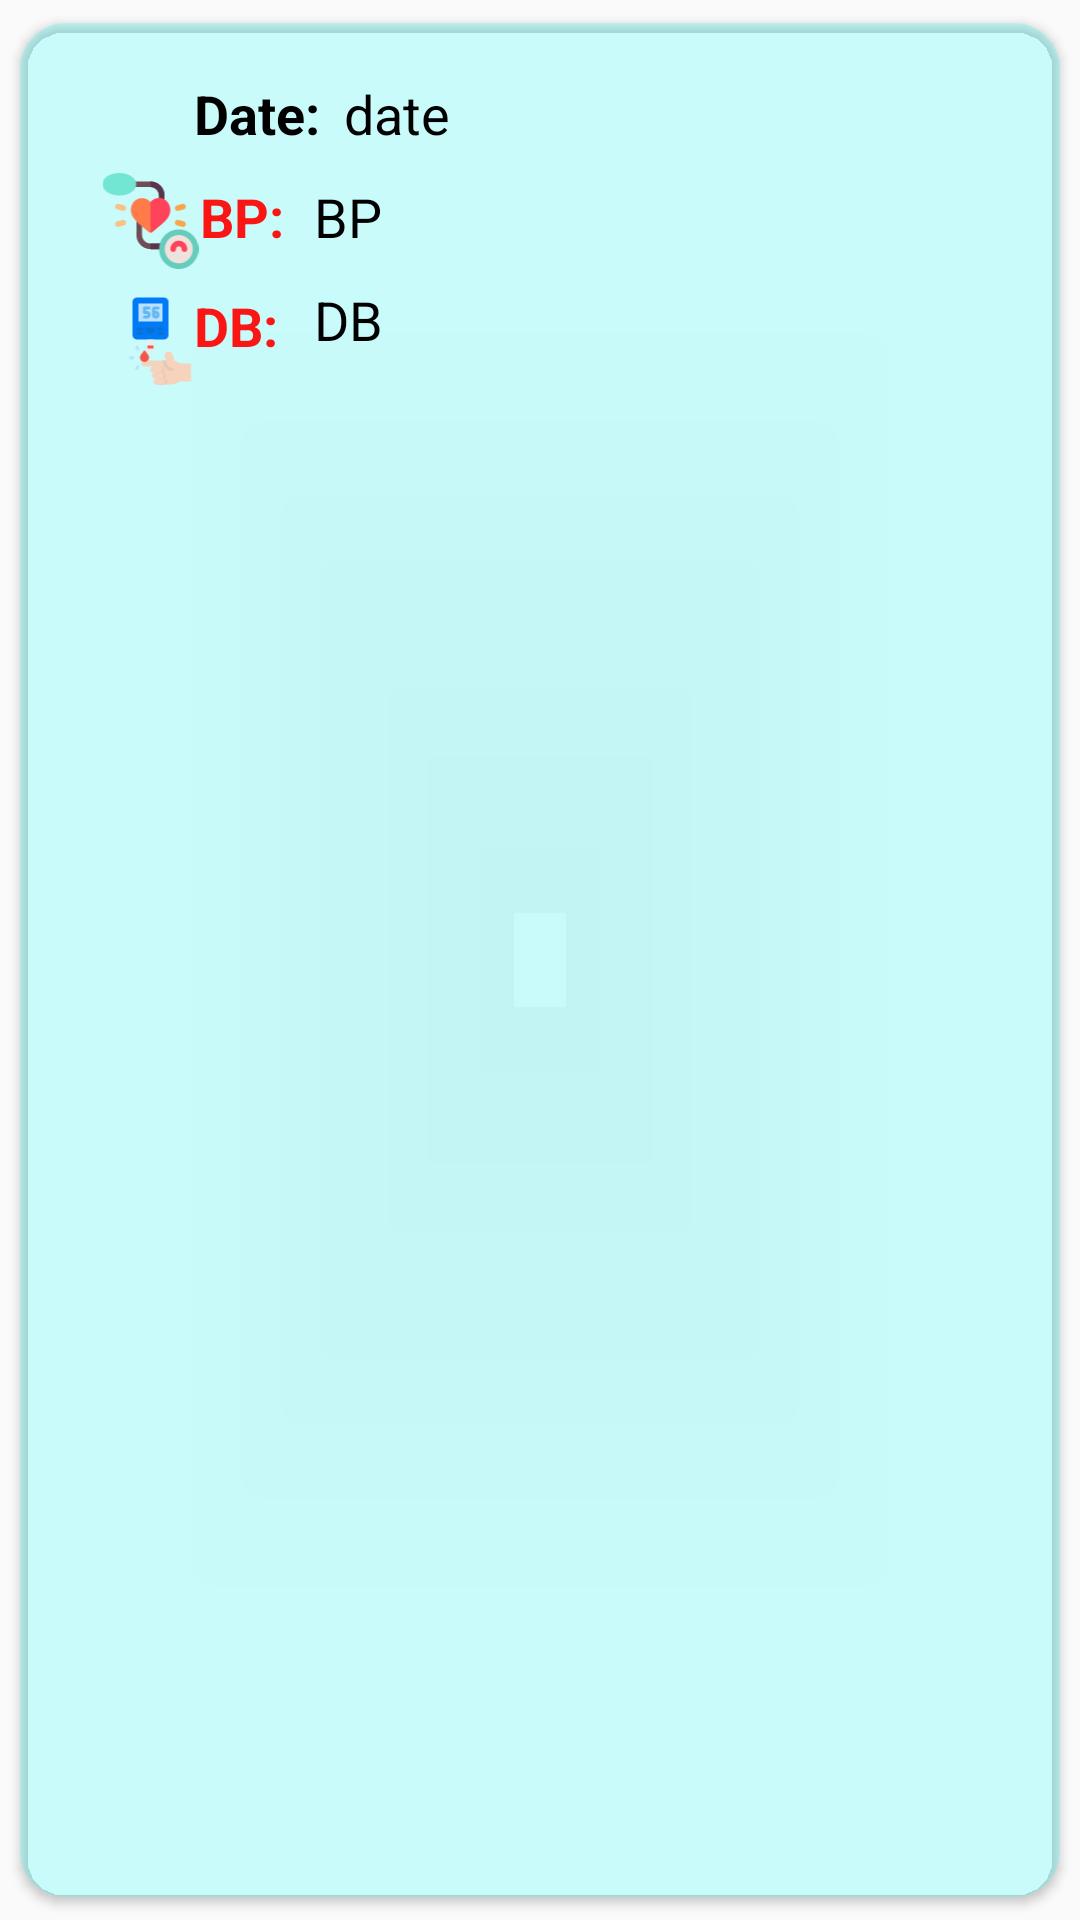

Where to tap for icons on this 1080*1920 app screen, as (x=x, y=y):
blood pressure: (x=151, y=221)
glucose meter: (x=160, y=341)
